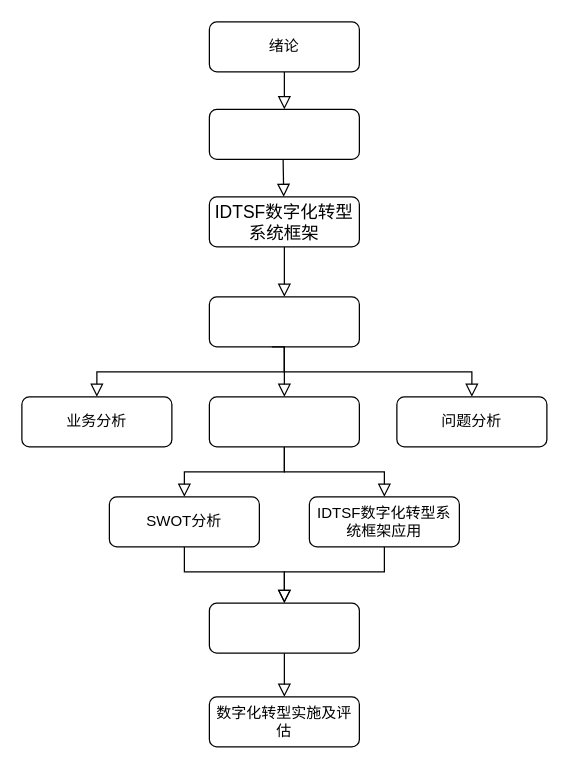
This 569x769 diagram has some shape labels left out. The centre of each missing label's shape, as x and y in pixels:
"企业生产流程全貌分析" belongs at (x=283, y=321).
"数字化转型方案制定" belongs at (x=283, y=627).
"相关理论" belongs at (x=283, y=133).
"调研访谈" belongs at (x=283, y=421).
